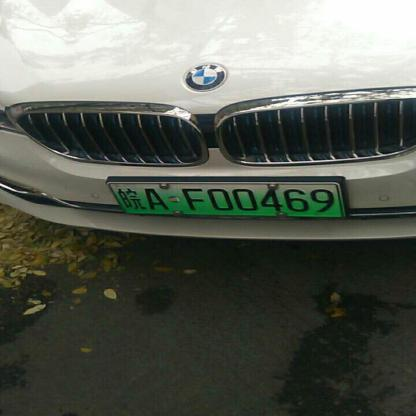lp: (107, 182, 342, 217)
